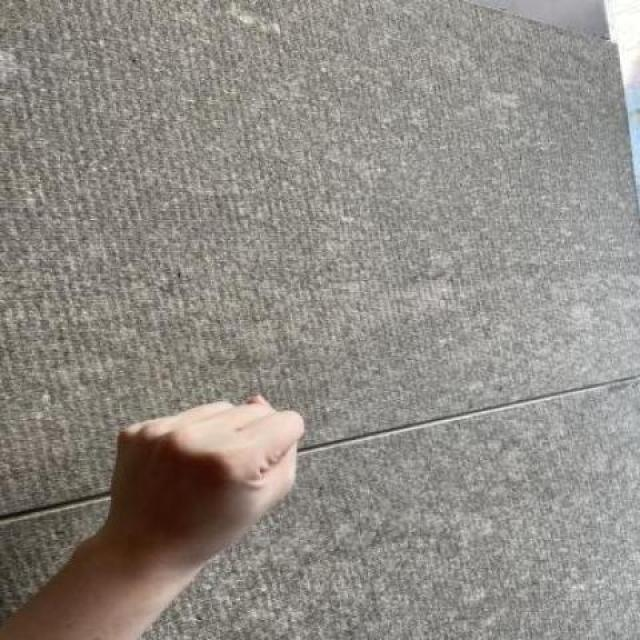Closed Hand: (102, 392, 309, 571)
